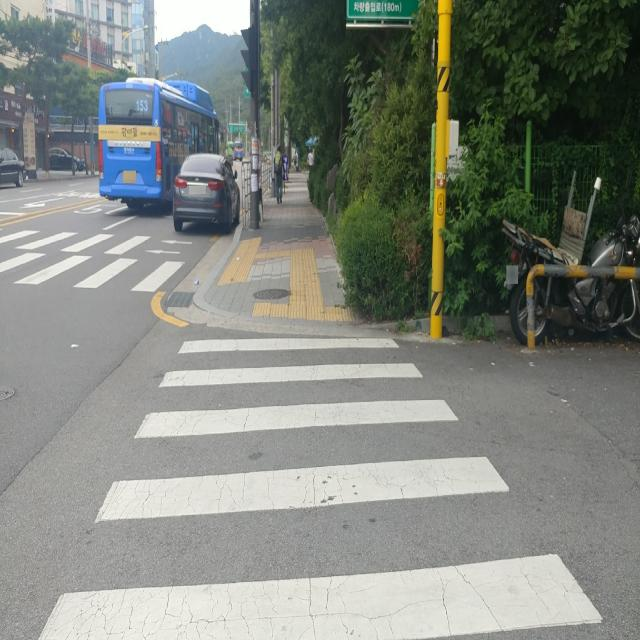횡단보도: (38, 337, 605, 640), (0, 221, 193, 302)
